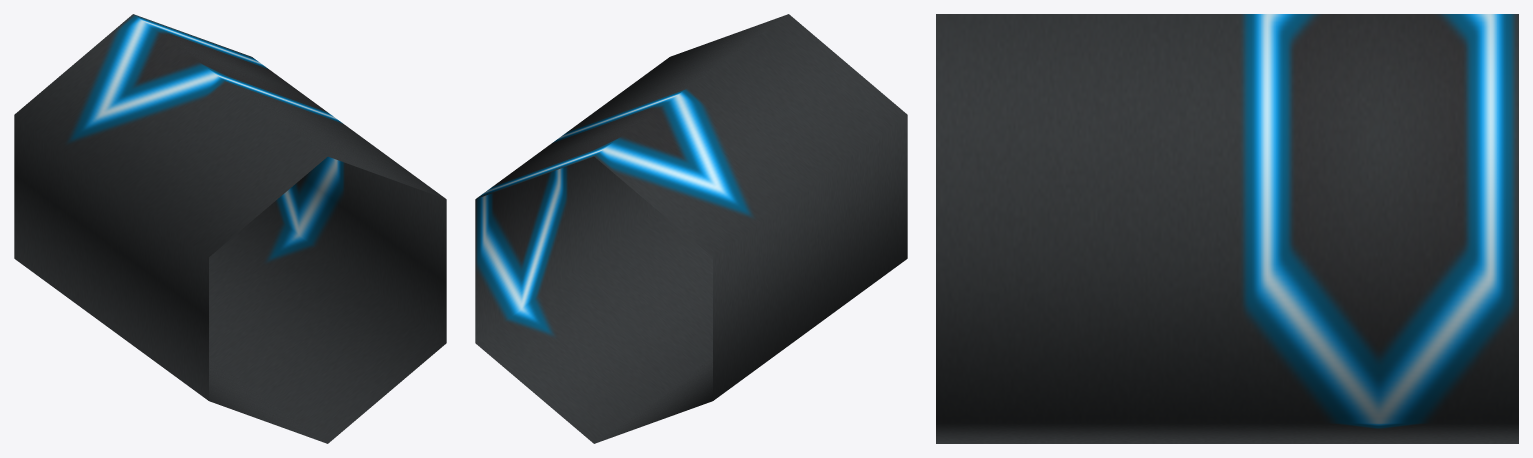
File: hexSides.FBX
3 views of the same model, side by side, from view 1: azimuth 30°, elevation 25°; view 2: azimuth 150°, elevation 25°; view 3: azimuth 270°, elevation 25° (orthographic). The views are drawn at different scales.
Parts seen in each view (by area): view 1: Cylinder005; view 2: Cylinder005; view 3: Cylinder005.
Boxes of the visible parts, bbox=[...] form: Cylinder005: bbox=[14, 14, 446, 443]; Cylinder005: bbox=[475, 14, 907, 443]; Cylinder005: bbox=[936, 14, 1518, 443].
Size of the model in its own units: 0.7052 by 0.8142 by 1.
